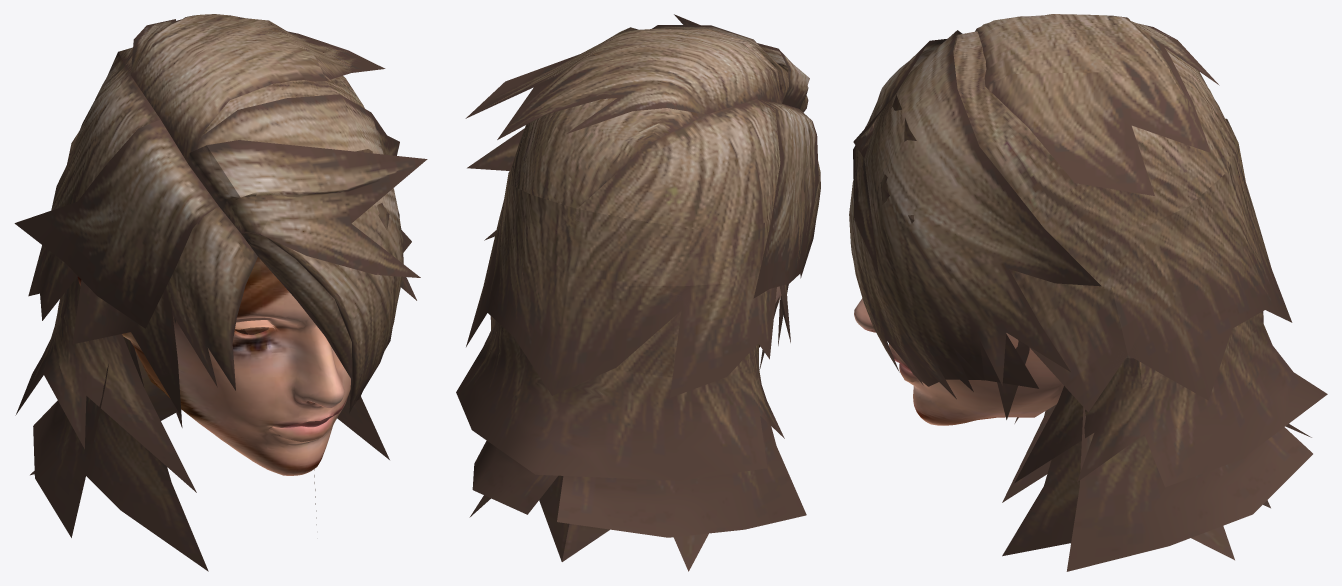
Rendered from head_m_3.fbx.
The picture shows the model from 3 angles, left to right: view 1: azimuth 30°, elevation 25°; view 2: azimuth 150°, elevation 25°; view 3: azimuth 270°, elevation 25°; orthographic projection. The views are drawn at different scales.
Parts seen in each view (by area): view 1: polySurface2, polySurface1; view 2: polySurface2; view 3: polySurface2, polySurface1.
Part boxes in pixels (x1=…): polySurface2: x1=14, y1=14, x2=427, y2=571; polySurface1: x1=77, y1=257, x2=350, y2=475; polySurface2: x1=456, y1=14, x2=820, y2=571; polySurface2: x1=849, y1=14, x2=1327, y2=571; polySurface1: x1=854, y1=298, x2=1063, y2=425.
Bounding box in the file's own units: 20.54 × 27.78 × 24.13.
2 materials, 2 textured.
